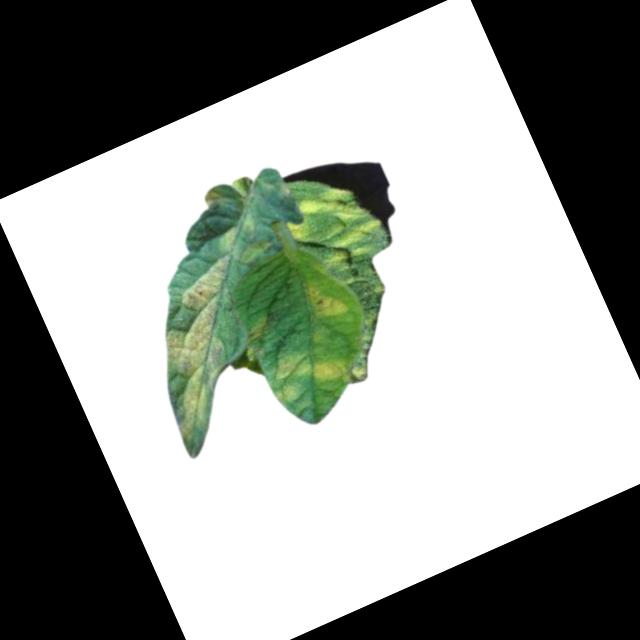Leaf_Mold: (121, 253, 288, 442), (279, 176, 387, 280), (258, 329, 352, 410), (300, 273, 352, 328), (201, 185, 227, 212)
